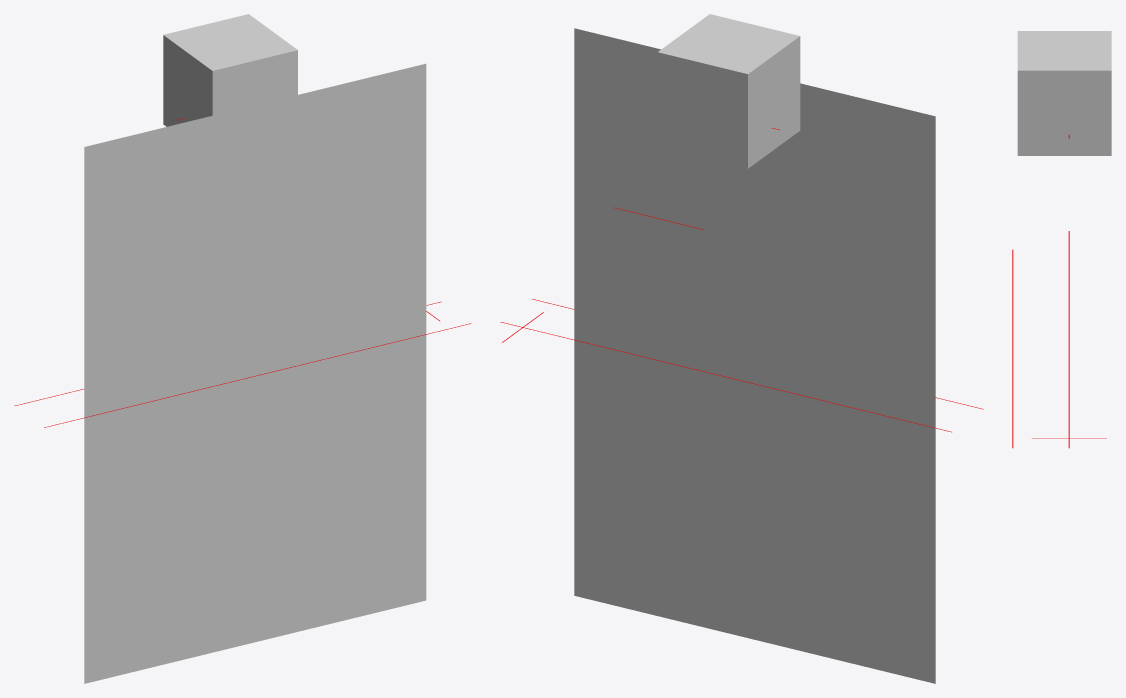
Rendered from tshirt.glb.
3 views of the same model, side by side, from view 1: azimuth 30°, elevation 25°; view 2: azimuth 150°, elevation 25°; view 3: azimuth 270°, elevation 25° (orthographic). The views are drawn at different scales.
Visible parts, largest first — view 1: Tshirt; view 2: Tshirt; view 3: Tshirt, zone_full_back, zone_full_front.
Part boxes in pixels (x1=…): Tshirt: x1=84, y1=14, x2=426, y2=683; Tshirt: x1=574, y1=14, x2=935, y2=683; Tshirt: x1=1017, y1=31, x2=1111, y2=155; zone_full_back: x1=1012, y1=249, x2=1013, y2=448; zone_full_front: x1=1068, y1=271, x2=1069, y2=448.
Size of the model in its own units: 1 by 1.3 by 0.211.
